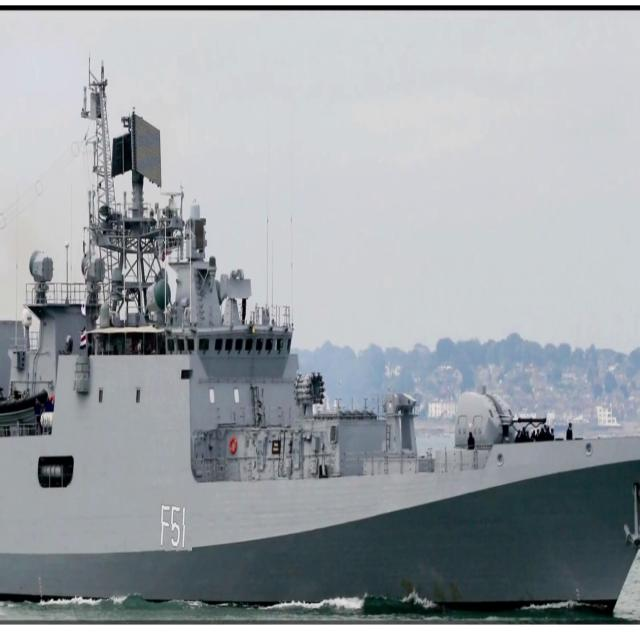OCR: (158, 500, 192, 553)
